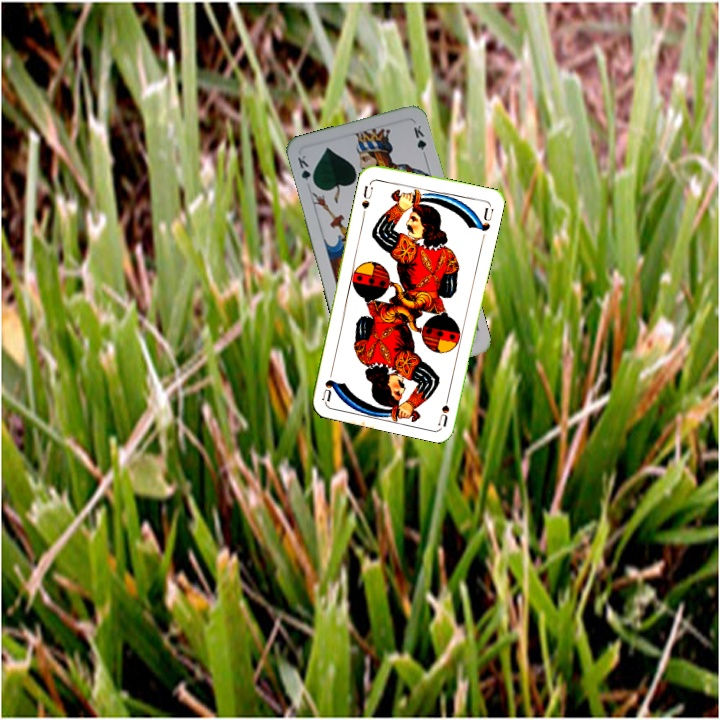GK: (293, 151, 318, 189)
SU: (434, 387, 453, 428), (358, 177, 376, 211)
